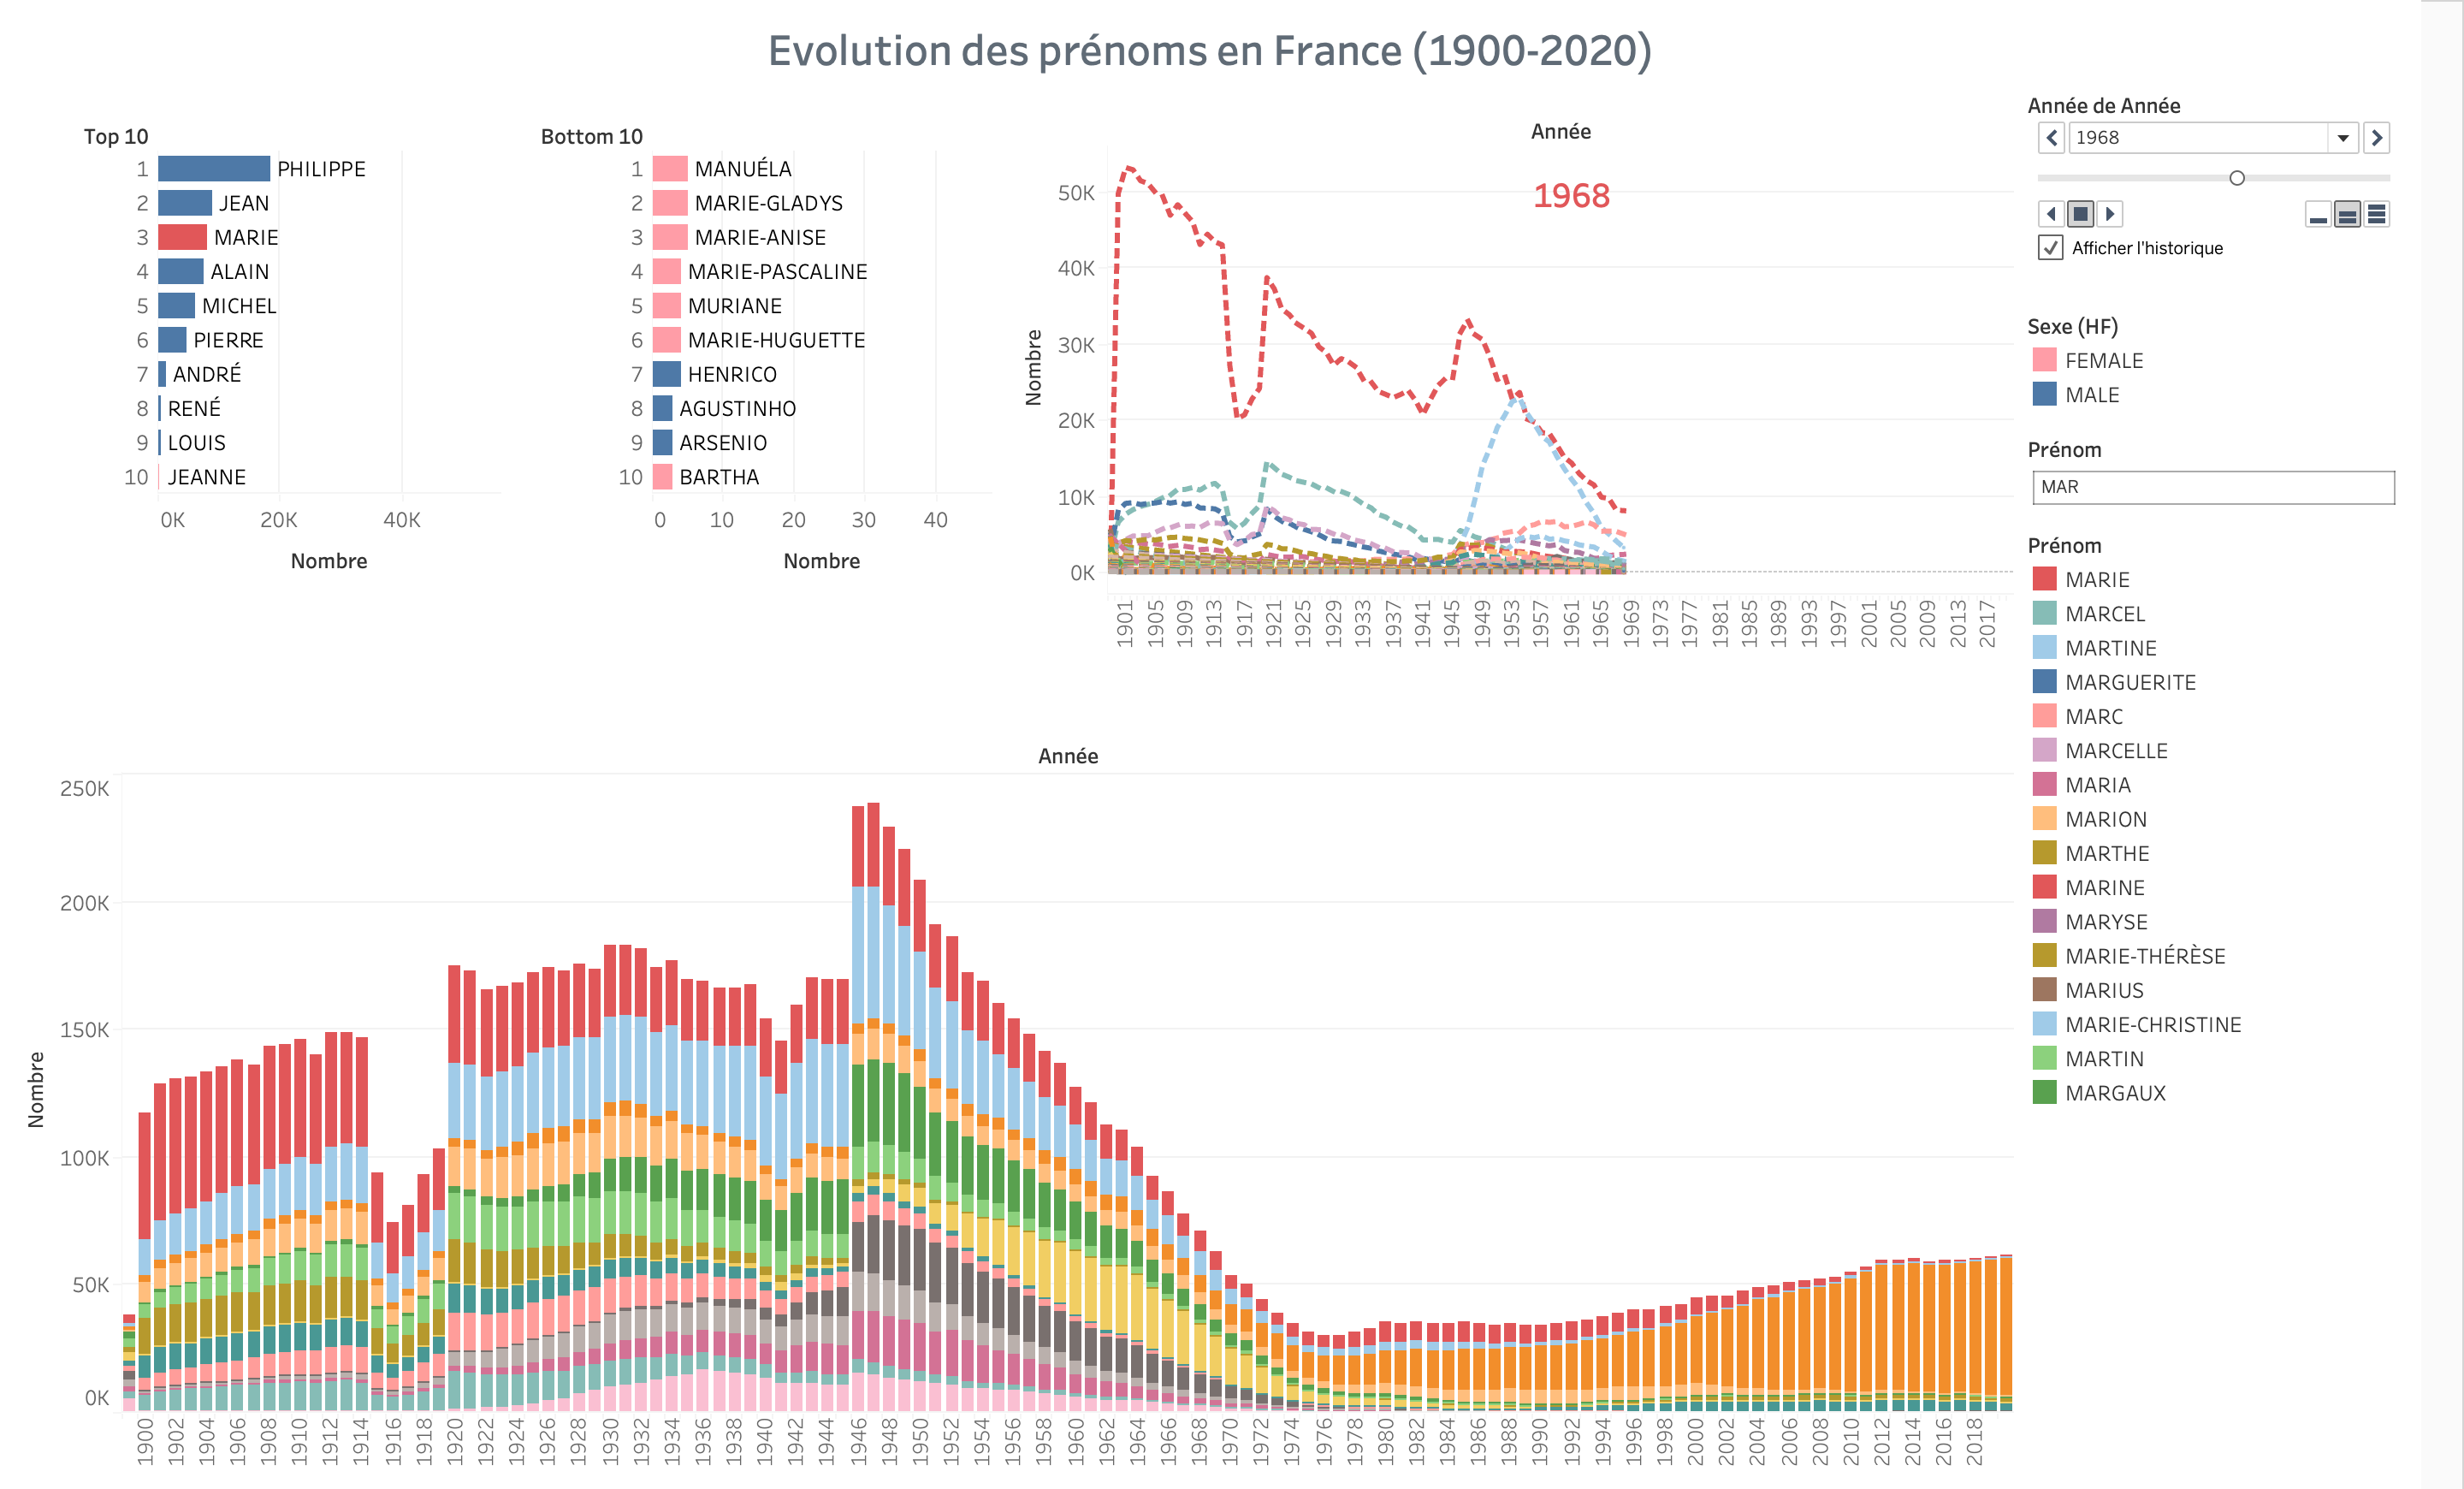

This screenshot's page, from the dashboard's own definition file:
{"tool":"tableau","page":{"name":"Dashboard","canvas":[1000,1000],"units":"permille","ordinal":0},"visuals":[{"type":"title","box":[5.6,9.2,988.9,48.3]},{"type":"worksheet","title":"BarChartRace","mark":"Bar","cols":["nombre"],"box":[5.6,57.5,214.9,384.5]},{"type":"worksheet","title":"Bottom10","mark":"Bar","cols":["nombre"],"box":[220.5,57.5,212.8,384.5]},{"type":"worksheet","title":"Top 10","mark":"Circle","rows":["nombre"],"cols":["annais"],"box":[433.3,57.5,443.1,384.5]},{"type":"parameter","param":"[Parameters].[Paramètre 3]","box":[876.4,57.5,118.1,64.4]},{"type":"legend","title":"Bottom10","param":"[federated.19kj0d41120fb116ftc9w1m4p7ka].[attr:Calculation_1866460616144150543:n","box":[876.4,121.9,118.1,82.8]},{"type":"legend","title":"Top 10","param":"[federated.19kj0d41120fb116ftc9w1m4p7ka].[none:preusuel:nk]","box":[876.4,204.6,118.1,400]},{"type":"worksheet","title":"StackedHist","mark":"Bar","rows":["nombre"],"cols":["annais"],"box":[5.6,442,870.8,548.8]},{"type":"currpage","title":"BarChartRace","box":[876.4,796.2,118.1,148.3]}]}

Visuals, with their boxes on the dashboard's canvas, which has no fixed pixel size, in thousandths of its width and height (x1, y1, x2, y2). These are canvas units, not pixel positions in the 2464x1489 screenshot, which may show the page scaled, cropped or inside an application window:
title: rect(6, 9, 994, 58)
"BarChartRace" worksheet (Bar marks): rect(6, 58, 220, 442)
"Bottom10" worksheet (Bar marks): rect(220, 58, 433, 442)
"Top 10" worksheet (Circle marks): rect(433, 58, 876, 442)
parameter: rect(876, 58, 994, 122)
"Bottom10" legend: rect(876, 122, 994, 205)
"Top 10" legend: rect(876, 205, 994, 605)
"StackedHist" worksheet (Bar marks): rect(6, 442, 876, 991)
"BarChartRace" currpage: rect(876, 796, 994, 944)
